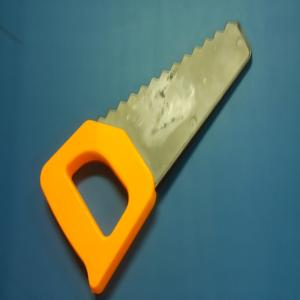serrote: (39, 21, 253, 293)
